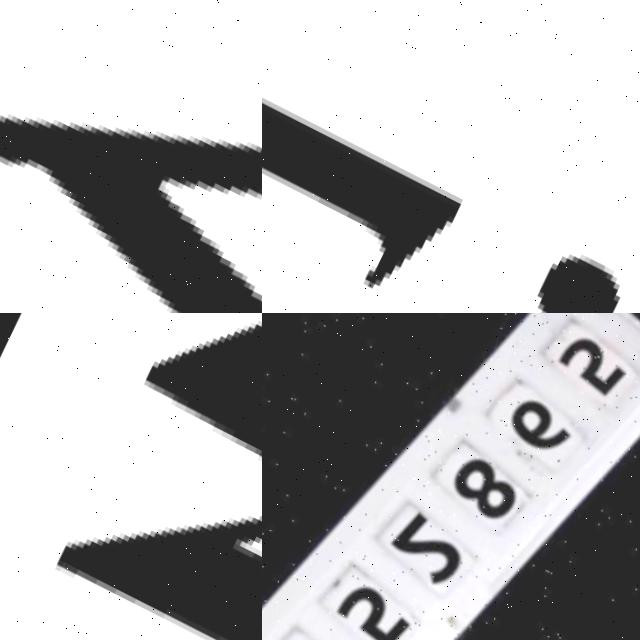0: (589, 313, 640, 357)
2: (363, 494, 490, 610)
5: (529, 313, 640, 422), (304, 560, 436, 640)
6: (473, 371, 602, 487)
8: (417, 433, 548, 551)
I: (262, 0, 640, 313)
W: (4, 313, 262, 640)
Y: (0, 0, 262, 313)
